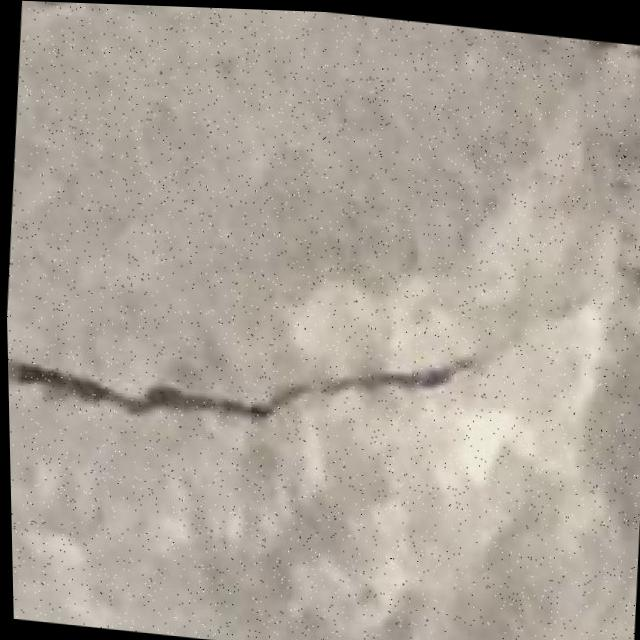Crack: (5, 286, 490, 454)
